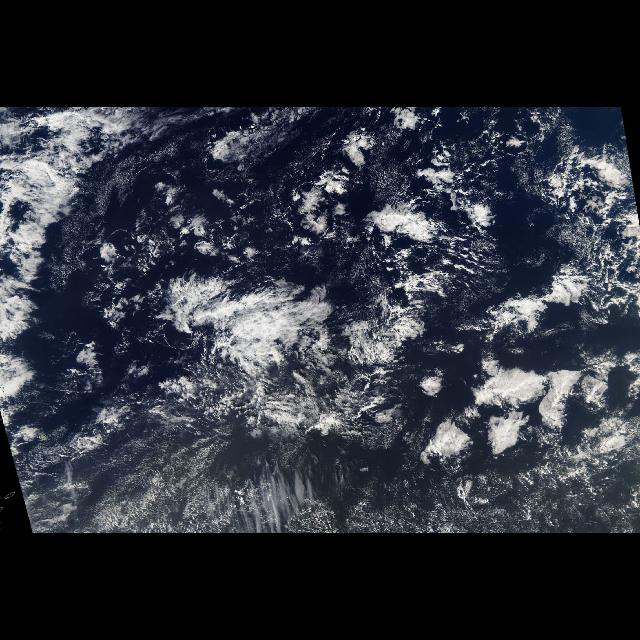Fish: (1, 108, 462, 442)
Flower: (412, 357, 640, 481)
